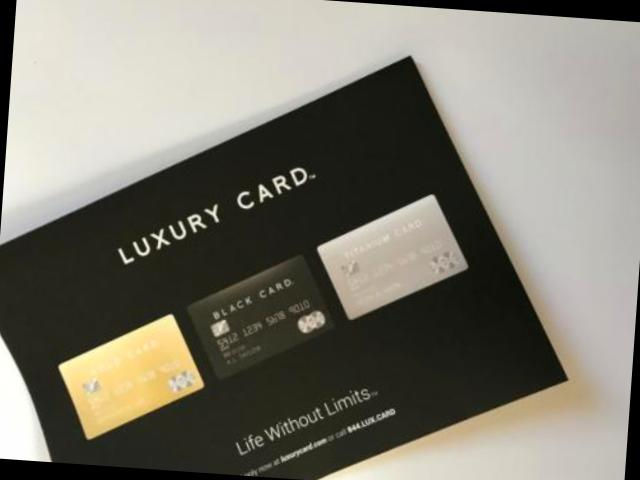cardboard paper: (0, 56, 563, 480)
